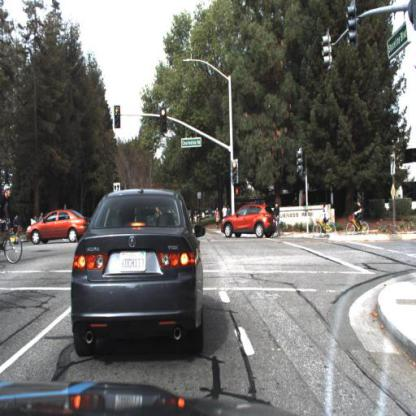biker: (1, 183, 26, 274), (345, 199, 373, 238), (313, 200, 338, 240), (7, 212, 26, 249), (270, 201, 282, 237)
car: (70, 187, 207, 359), (218, 203, 280, 241)
pedestrian: (13, 212, 25, 247), (14, 214, 23, 245), (31, 215, 38, 246), (216, 208, 222, 231)
trafficLight-Red: (231, 158, 240, 184), (159, 106, 167, 135)
trafficLight-RedLeft: (114, 103, 122, 129)
